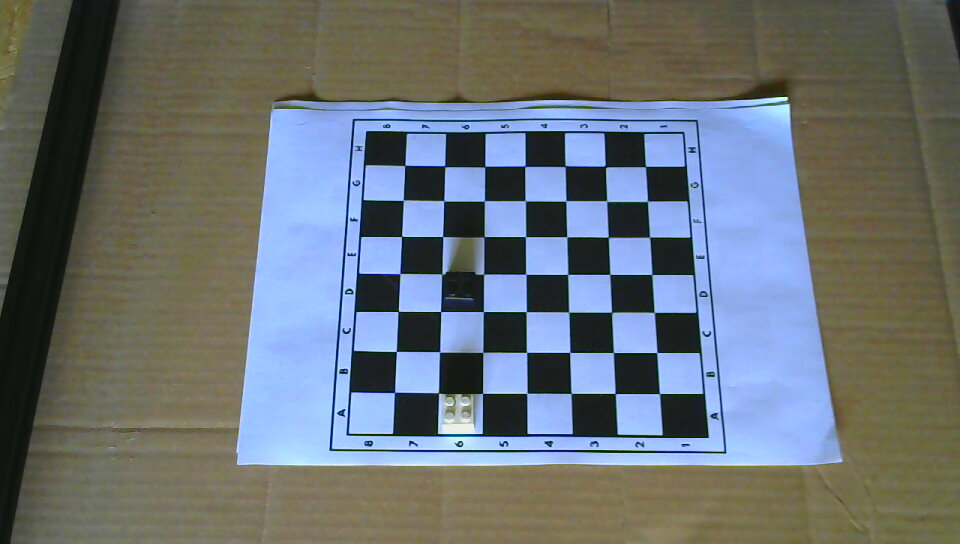bp: (443, 269, 477, 308)
wp: (441, 391, 477, 435)
